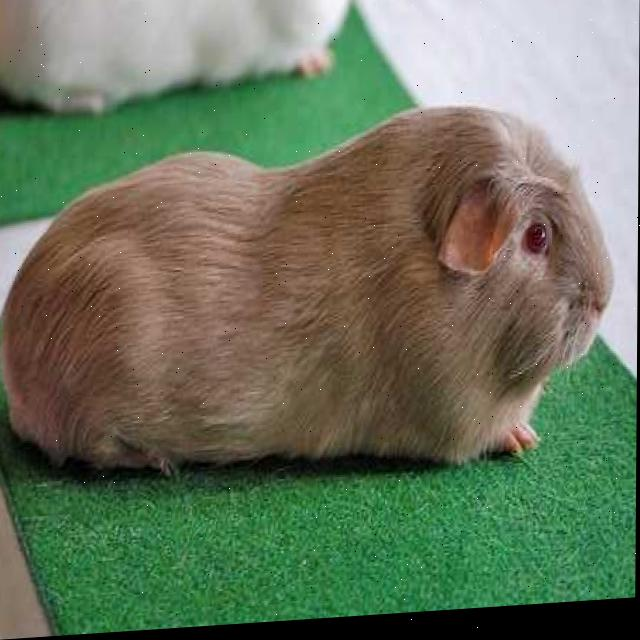guinea pig: (3, 109, 616, 497)
